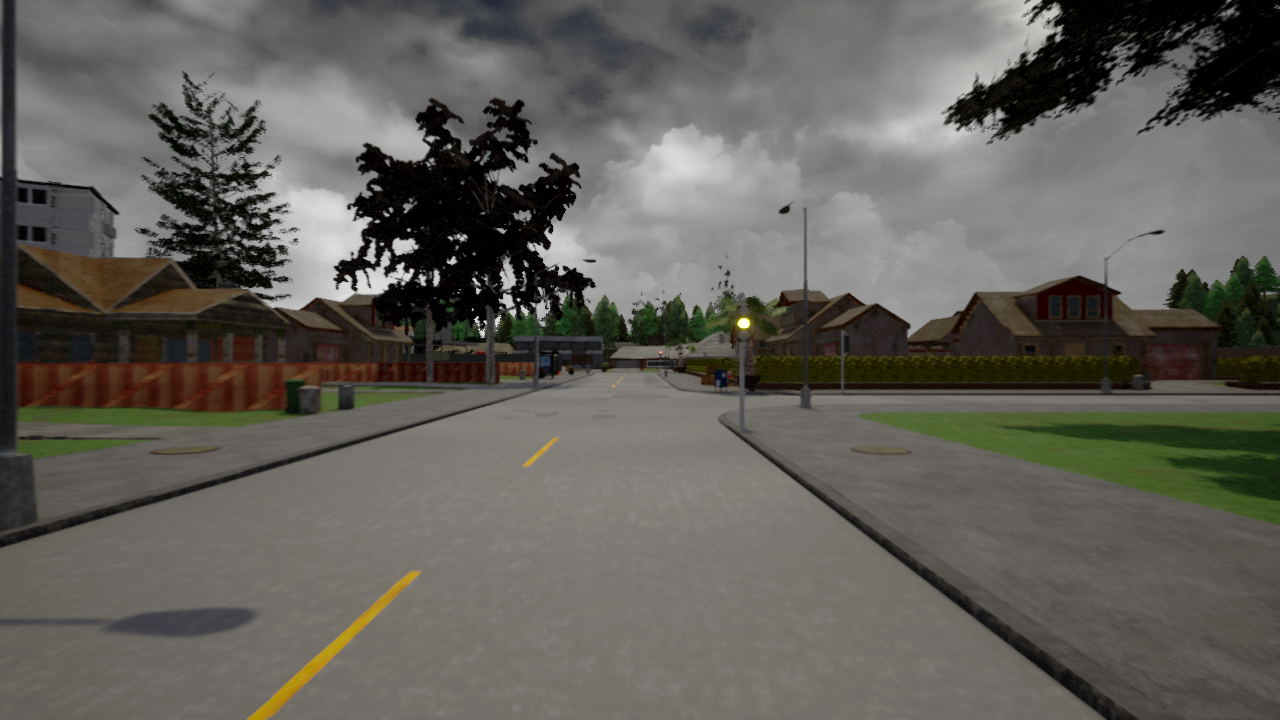yellow: (735, 303, 753, 345)
